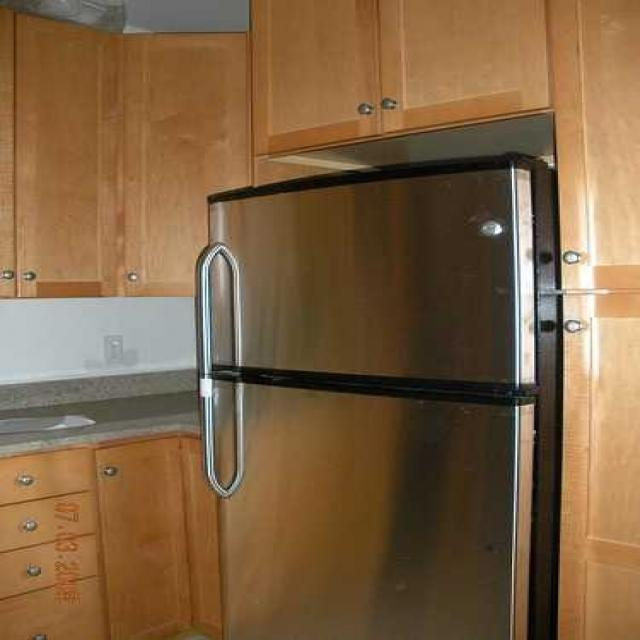refrigerator: (200, 147, 534, 640)
